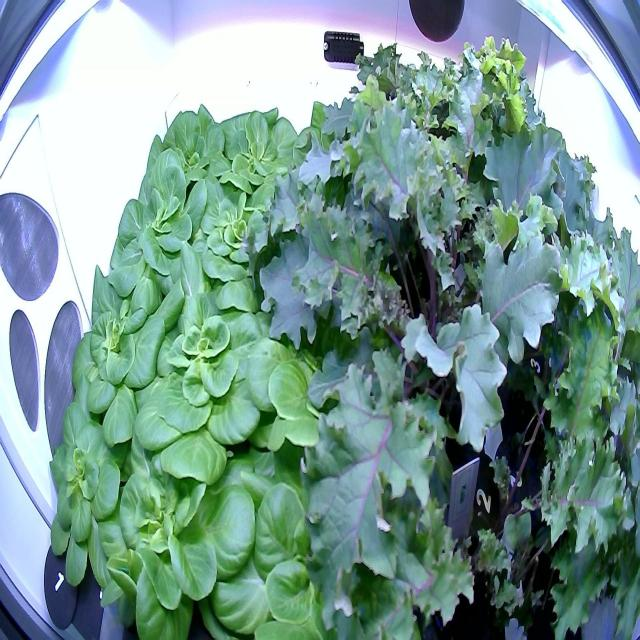young: (241, 443, 440, 640), (121, 269, 302, 482), (98, 423, 273, 640), (254, 298, 418, 487), (66, 258, 193, 456), (42, 378, 154, 600), (101, 143, 226, 332), (177, 163, 297, 321), (201, 88, 307, 225), (134, 100, 234, 238)
